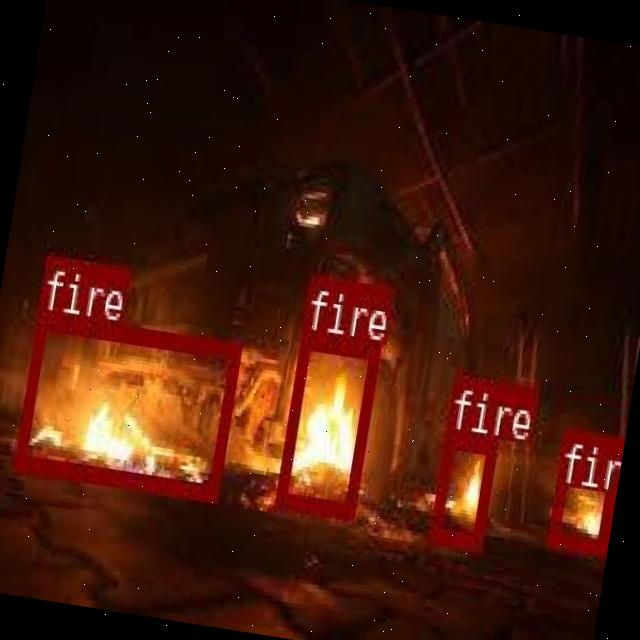fire: (13, 310, 240, 500), (274, 330, 380, 514), (546, 426, 622, 552), (428, 429, 497, 548)
